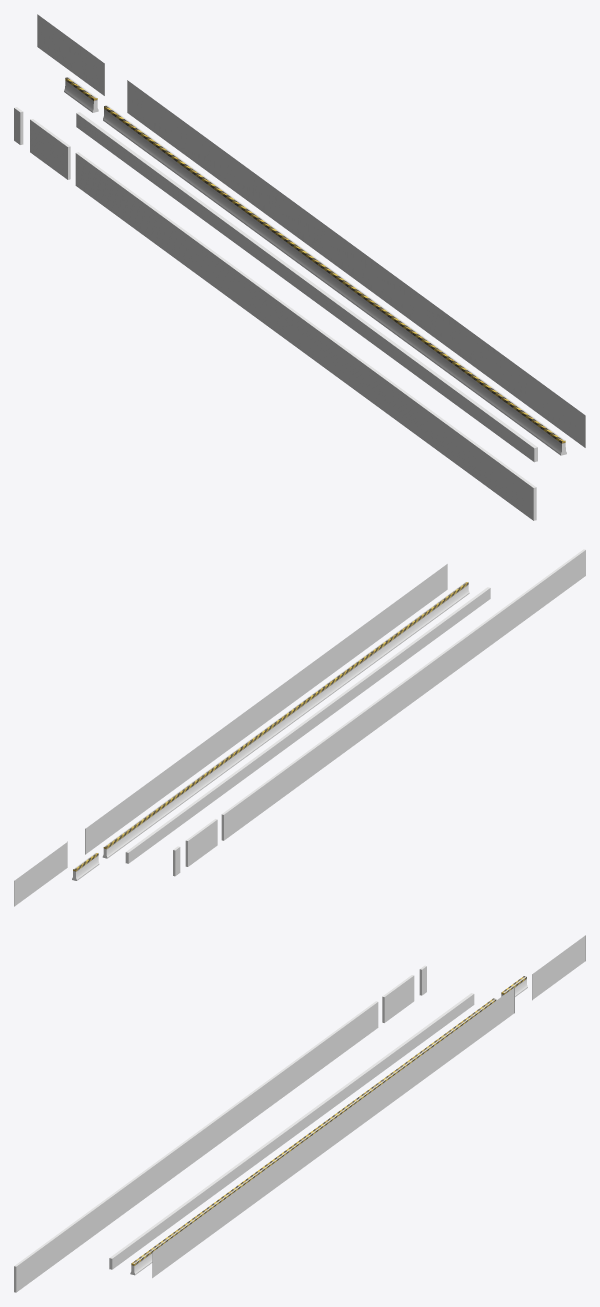
The model's file is Barriers.FBX.
3 renders of one model, top to bottom at view 1: azimuth 30°, elevation 25°; view 2: azimuth 150°, elevation 25°; view 3: azimuth 330°, elevation 25°, orthographic. The views are drawn at different scales.
Visible parts, largest first — view 1: Box006, Box005, Box002, Box003, Box004, Box008; view 2: Box006, Box005, Box002, Box003, Box004, Box008; view 3: Box006, Box005, Box003, Box002, Box004, Box008.
Part boxes in pixels (<box>): Box006: <box>75,152,536,520</box>; Box005: <box>127,80,585,447</box>; Box002: <box>103,105,566,455</box>; Box003: <box>76,112,537,462</box>; Box004: <box>37,14,104,95</box>; Box008: <box>30,119,70,179</box>; Box006: <box>221,549,585,840</box>; Box005: <box>85,564,447,854</box>; Box002: <box>102,582,469,858</box>; Box003: <box>125,587,490,863</box>; Box004: <box>14,841,67,906</box>; Box008: <box>185,819,217,866</box>; Box006: <box>14,1001,378,1292</box>; Box005: <box>152,987,514,1277</box>; Box003: <box>109,993,474,1269</box>; Box002: <box>130,998,496,1275</box>; Box004: <box>532,935,585,1000</box>; Box008: <box>382,975,414,1022</box>.
Bounding box in the file's own units: 1537 × 423 × 14239.
